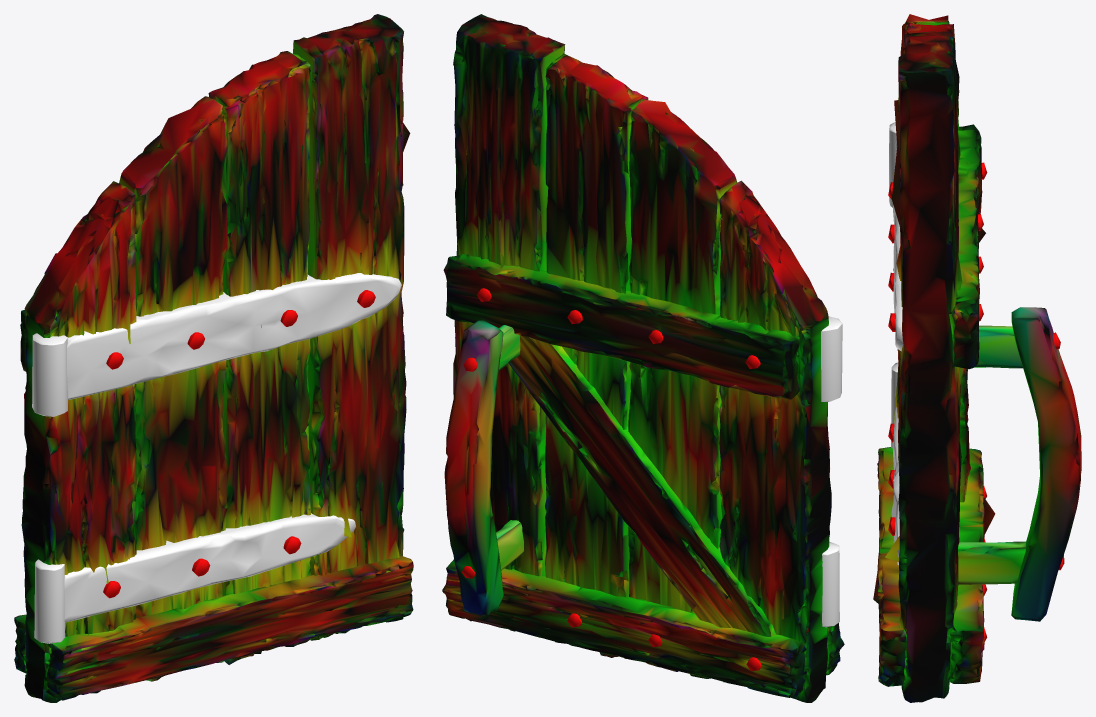
File: SM_Reinforced_Window_L_Arc.fbx
3 views of the same model, side by side, from view 1: azimuth 30°, elevation 25°; view 2: azimuth 150°, elevation 25°; view 3: azimuth 270°, elevation 25° (orthographic). The views are drawn at different scales.
Visible parts, largest first — view 1: SM_Reinforced_Window_L_Arc_LOD0; view 2: SM_Reinforced_Window_L_Arc_LOD0; view 3: SM_Reinforced_Window_L_Arc_LOD0.
Boxes of the visible parts, box(x1,y1,x2,y2) form: SM_Reinforced_Window_L_Arc_LOD0: box(14, 14, 413, 702); SM_Reinforced_Window_L_Arc_LOD0: box(442, 14, 844, 702); SM_Reinforced_Window_L_Arc_LOD0: box(873, 14, 1081, 702).
Bounding box in the file's own units: 43.36 × 19.68 × 66.29.
